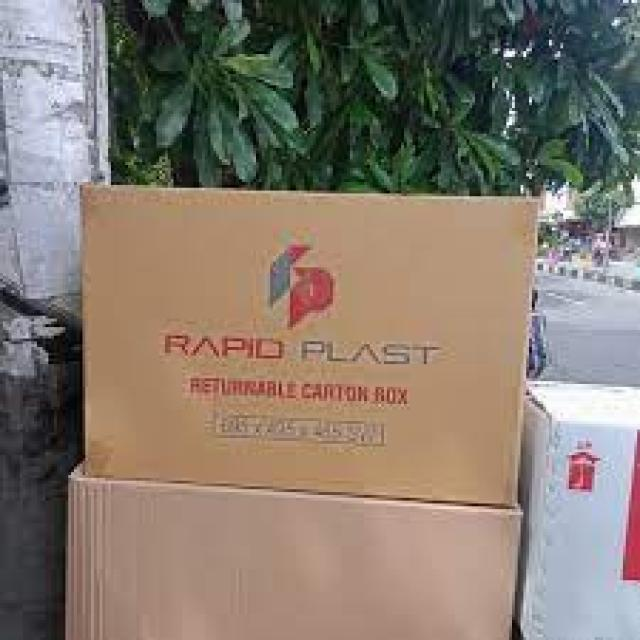Kardus kondisi bagus: (82, 184, 542, 507), (62, 478, 520, 640), (517, 381, 640, 640)
